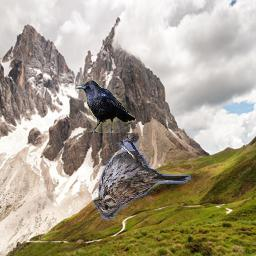Crow: (75, 81, 135, 134)
Sparrow: (93, 134, 192, 221)
